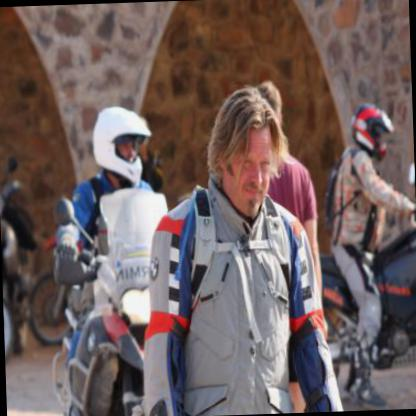motorcycle: (42, 179, 178, 415), (314, 158, 415, 379), (25, 224, 91, 347), (0, 162, 38, 358)
